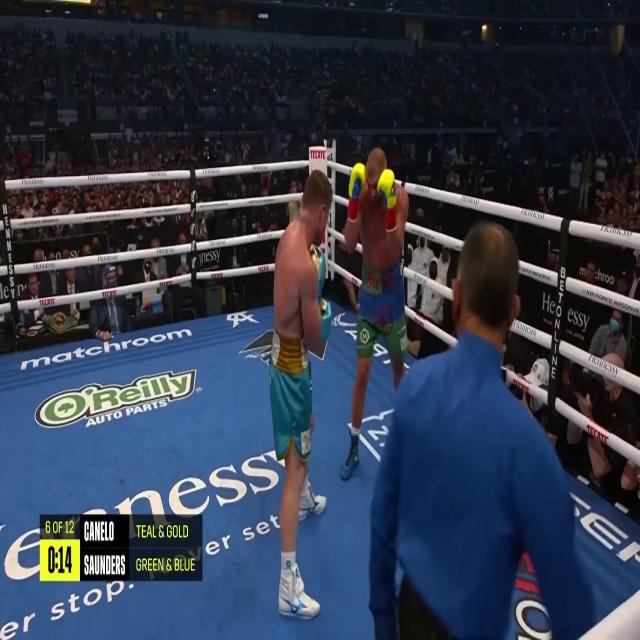boxer_1: (344, 146, 409, 269)
boxer_2: (274, 169, 333, 353)
gloves_1: (377, 167, 397, 230), (348, 161, 367, 220)
gloves_2: (314, 245, 332, 341)
